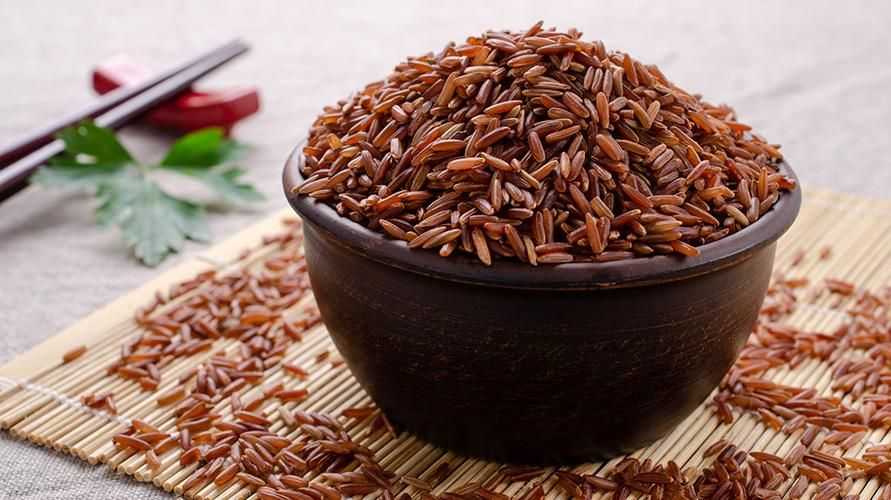Nasi Merah: (199, 6, 770, 352)
